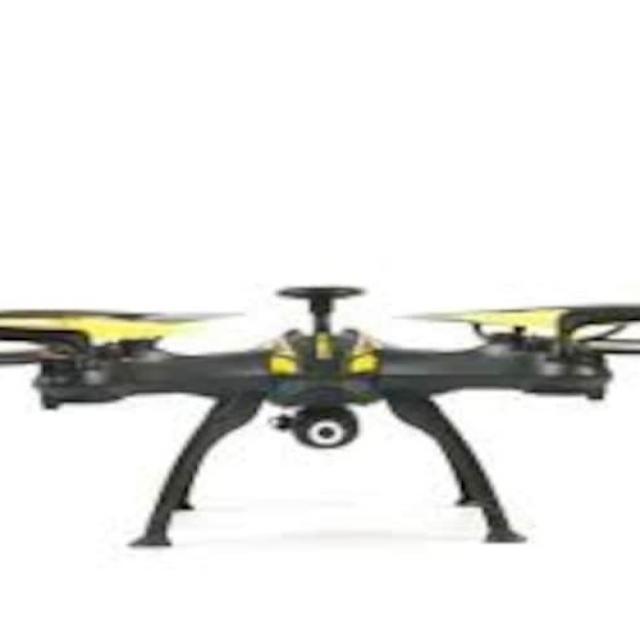drone: (0, 275, 640, 491)
